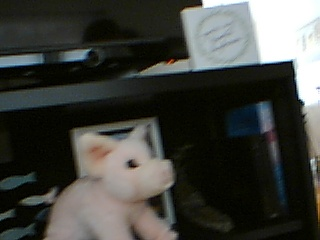piggy: (41, 123, 182, 240)
